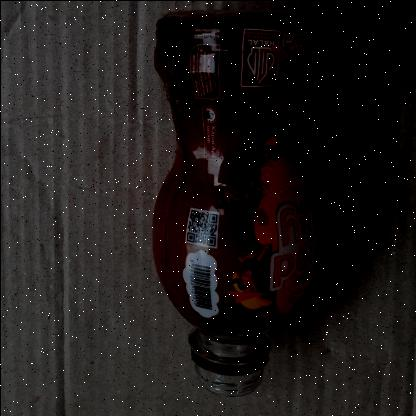Plastic Bottle: (150, 12, 324, 396)
